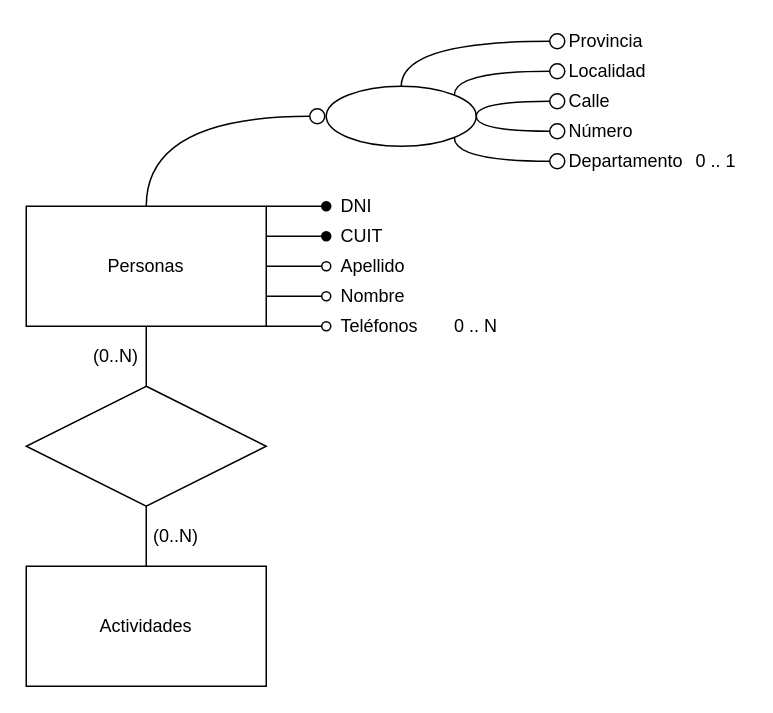
This 773x713 diagram has some shape labels left out. Each missing label, with the centre of its shape:
"Dirección" goes at point (400, 115).
"Realizar" goes at point (145, 445).
